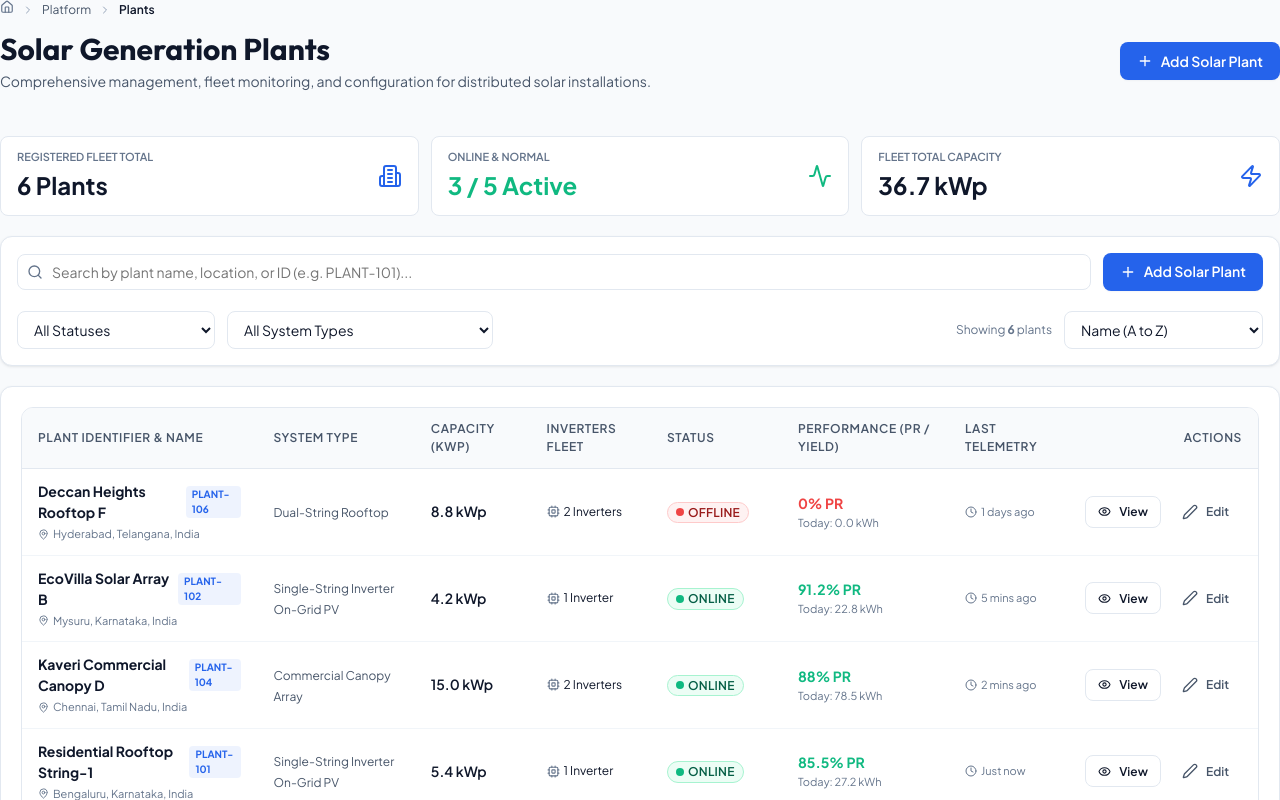
Scenario: PlantsPage Component & Filter Suite › opens Add Solar Plant modal and shows validation errors on empty submit
The width and height of the screenshot is (1280, 800).
Expected: the heading "Solar Generation Plants" is shown, [0, 30, 330, 68]
Click the button "Add Solar Plant" in the row of "Solar Generation Plants" at (1200, 61), box [1120, 42, 1279, 80]
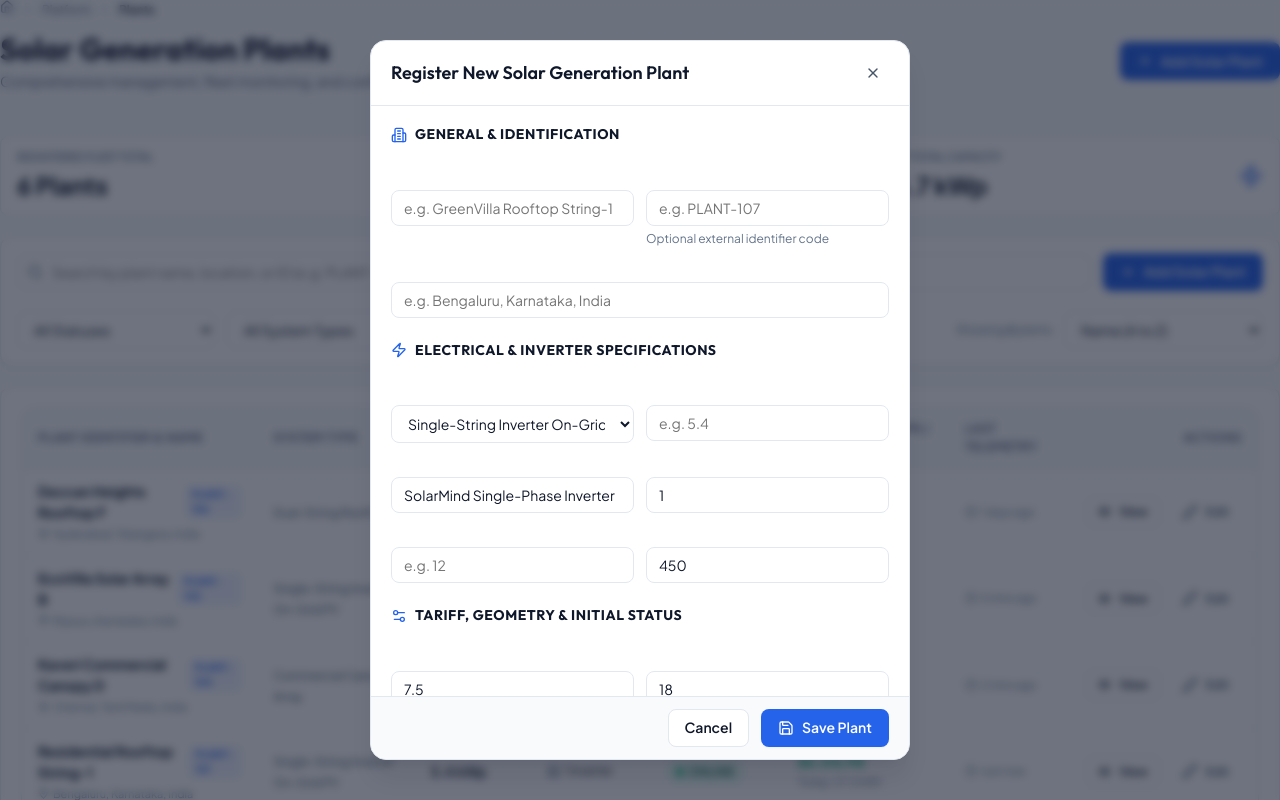
Expected: the heading "Register New Solar Generation Plant" is shown, [391, 62, 689, 84]
Click the button "Save Plant" at (825, 728), box [761, 709, 889, 747]
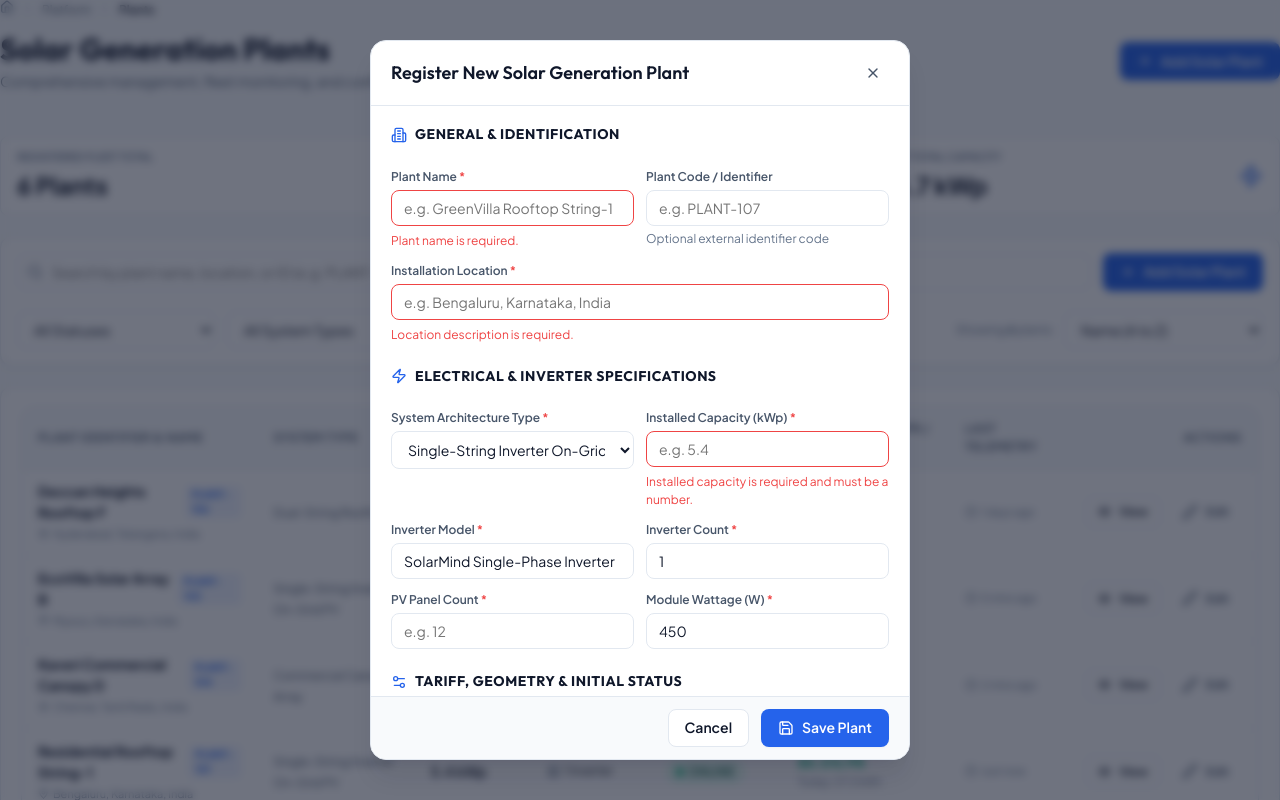
Expected: the text "Plant name is required." is shown, [391, 232, 519, 248]
